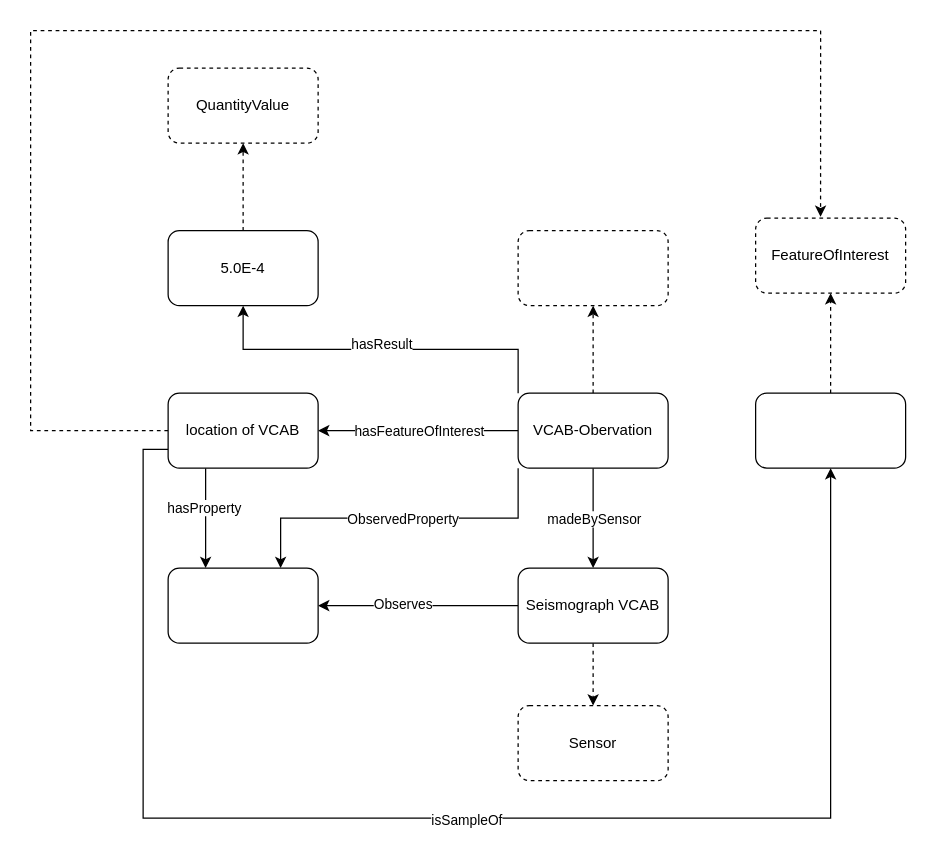
The diagram is 928 pixels wide and 850 high, and some of its shapes have lost their labels. Here are the shapes that lost their labels. From the top down, the box of each, then its label:
(517, 229, 668, 306): Obervation
(754, 392, 906, 468): Earth
(167, 567, 318, 643): the ground displacement spped at location of VCAB
